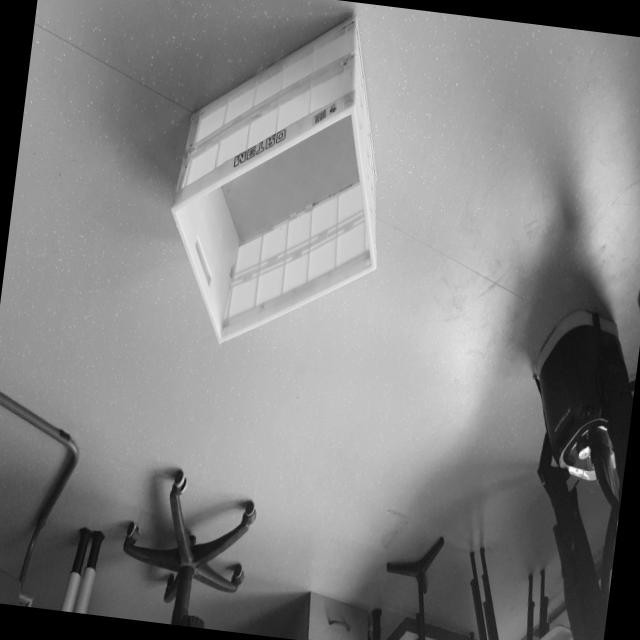box: (142, 0, 415, 370)
